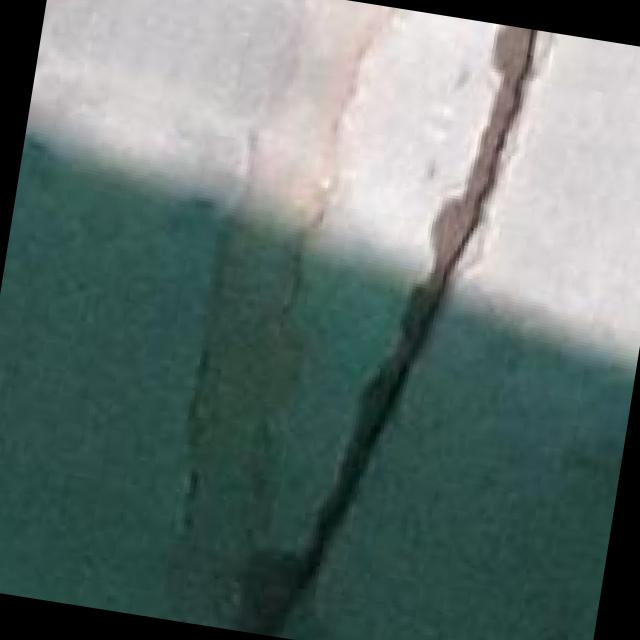crack: (226, 0, 560, 640)
